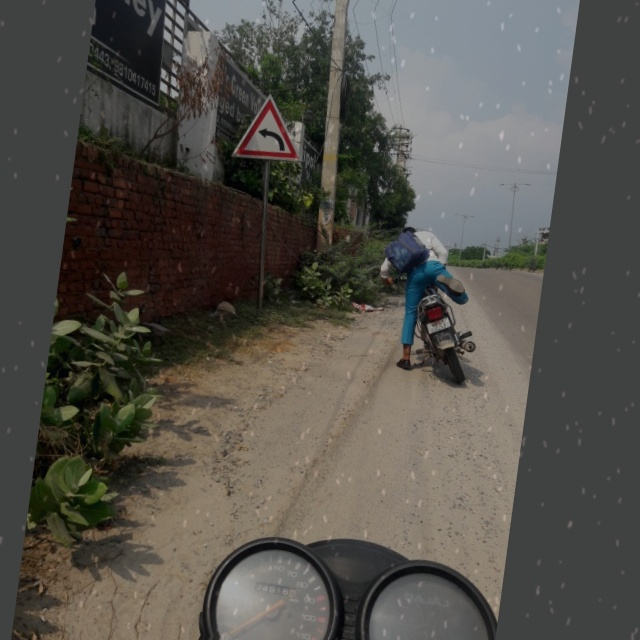Left_Hand_Curve: (227, 90, 311, 171)
